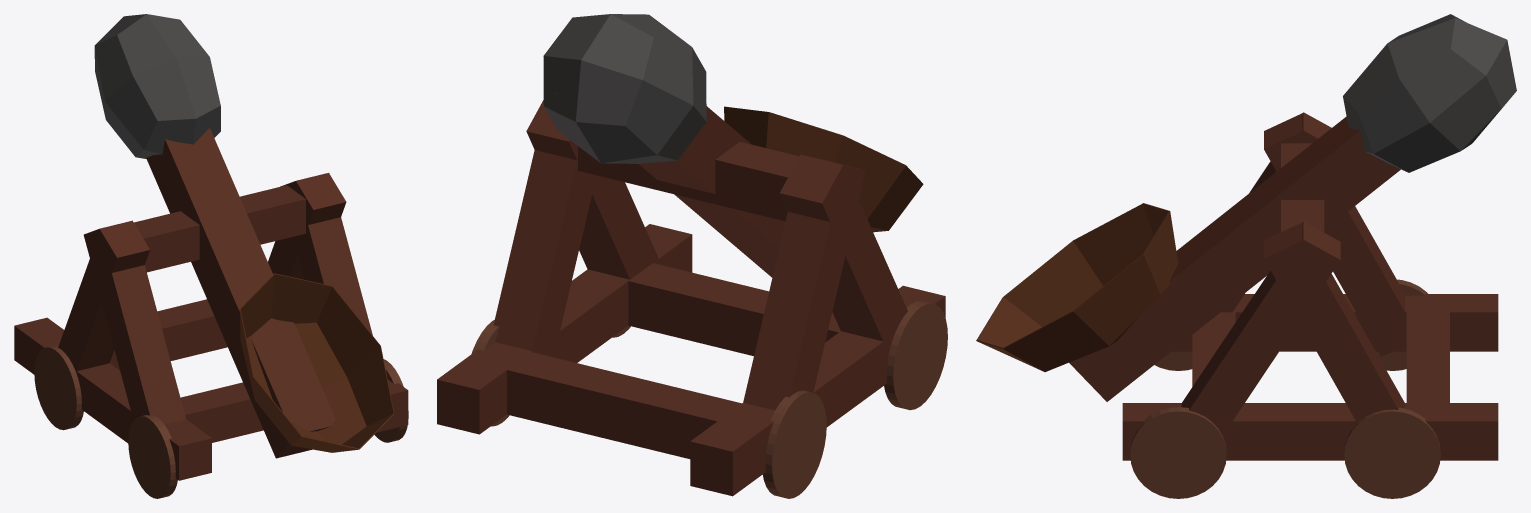
File: Trebuchet.fbx
3 renders of one model, left to right at view 1: azimuth 30°, elevation 25°; view 2: azimuth 150°, elevation 25°; view 3: azimuth 270°, elevation 25°, orthographic. The views are drawn at different scales.
Visible parts, largest first — view 1: Cube.038, Cylinder.001; view 2: Cylinder.001, Cube.038; view 3: Cylinder.001, Cube.038.
Boxes of the visible parts, <box> form: Cube.038: <box>94,14,394,458</box>; Cylinder.001: <box>14,173,408,498</box>; Cylinder.001: <box>437,100,947,498</box>; Cube.038: <box>543,14,923,277</box>; Cylinder.001: <box>1122,112,1498,498</box>; Cube.038: <box>976,14,1516,401</box>.
Bounding box in the file's own units: 139 × 203 × 240.
